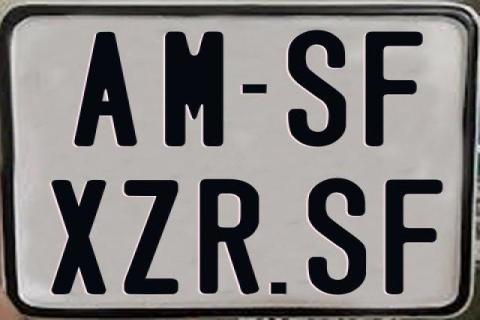A: (74, 32, 138, 149)
F: (365, 30, 428, 146), (386, 178, 449, 294)
M: (164, 30, 226, 146)
R: (198, 180, 259, 298)
S: (286, 28, 347, 148), (305, 175, 363, 293)
X: (48, 180, 107, 296)
Z: (122, 178, 180, 296)
